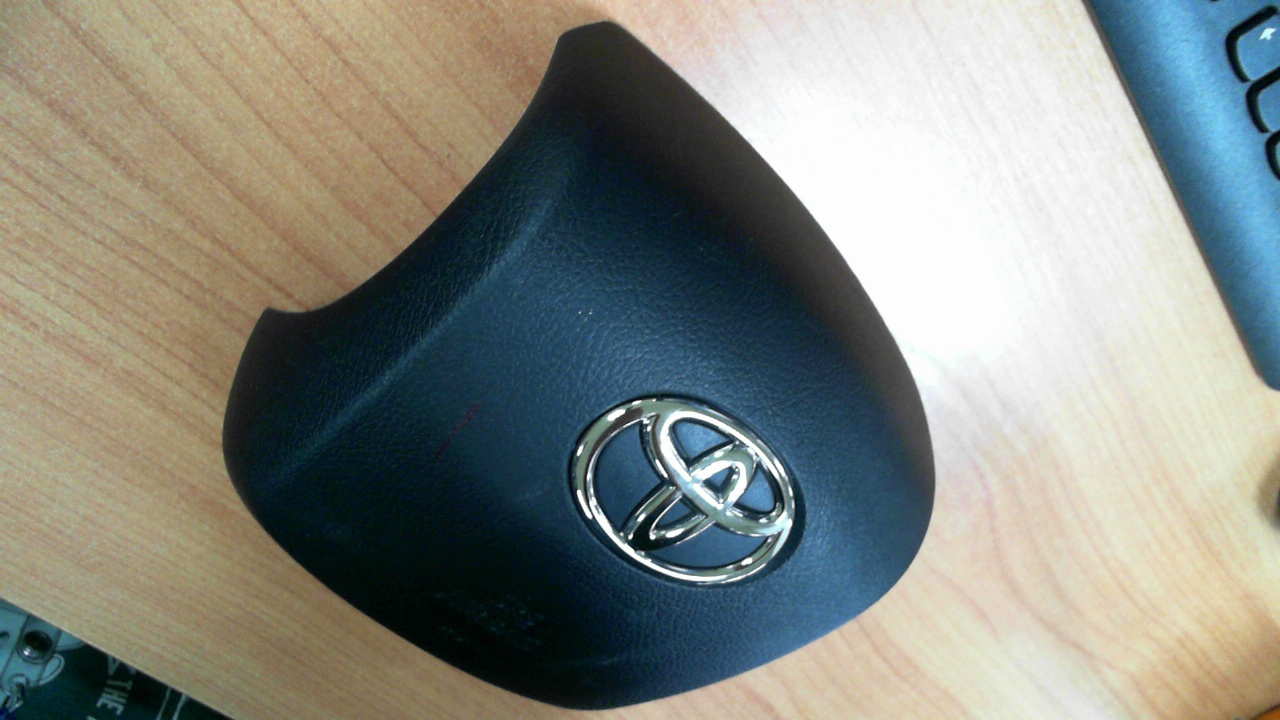Airbag: (220, 20, 937, 713)
Toyota: (574, 397, 796, 586)
